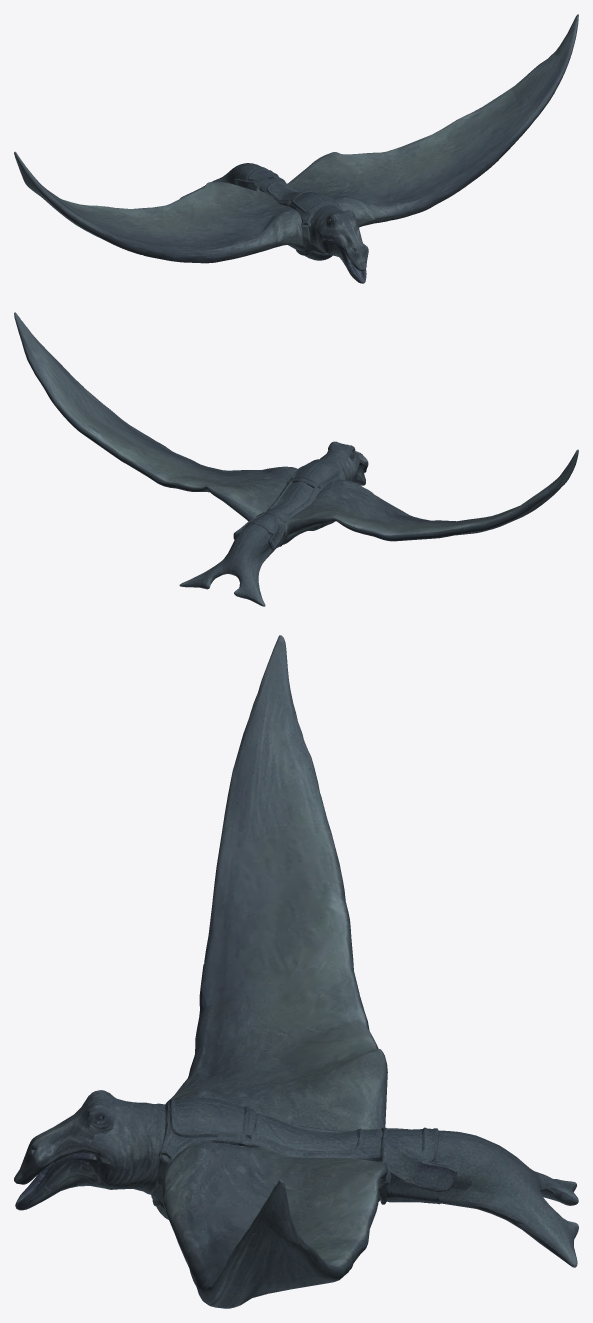
File: aiwha.glb
3 renders of one model, top to bottom at view 1: azimuth 30°, elevation 25°; view 2: azimuth 150°, elevation 25°; view 3: azimuth 270°, elevation 25°, orthographic. The views are drawn at different scales.
Parts seen in each view (by area): view 1: aiwha-centred; view 2: aiwha-centred; view 3: aiwha-centred.
Part boxes in pixels (box(x1,y1,x2,y2)): aiwha-centred: box(14, 14, 578, 283); aiwha-centred: box(14, 312, 578, 606); aiwha-centred: box(14, 635, 578, 1308).
Size of the model in its own units: 14 by 3.83 by 6.12.
1 material, 1 textured.
